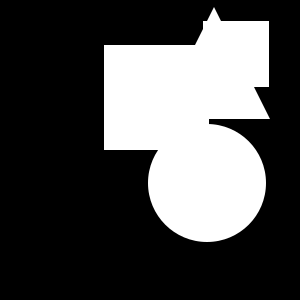circle: (104, 45, 209, 150), (203, 21, 269, 87)
rectangle: (148, 124, 266, 242)
triangle: (158, 7, 270, 119)
